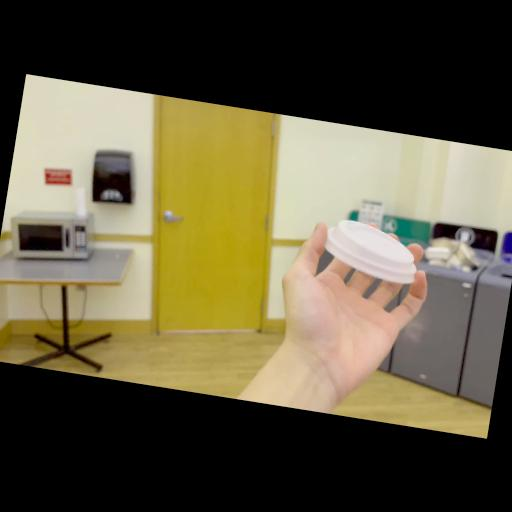lp_cup_lids: (311, 214, 423, 290)
